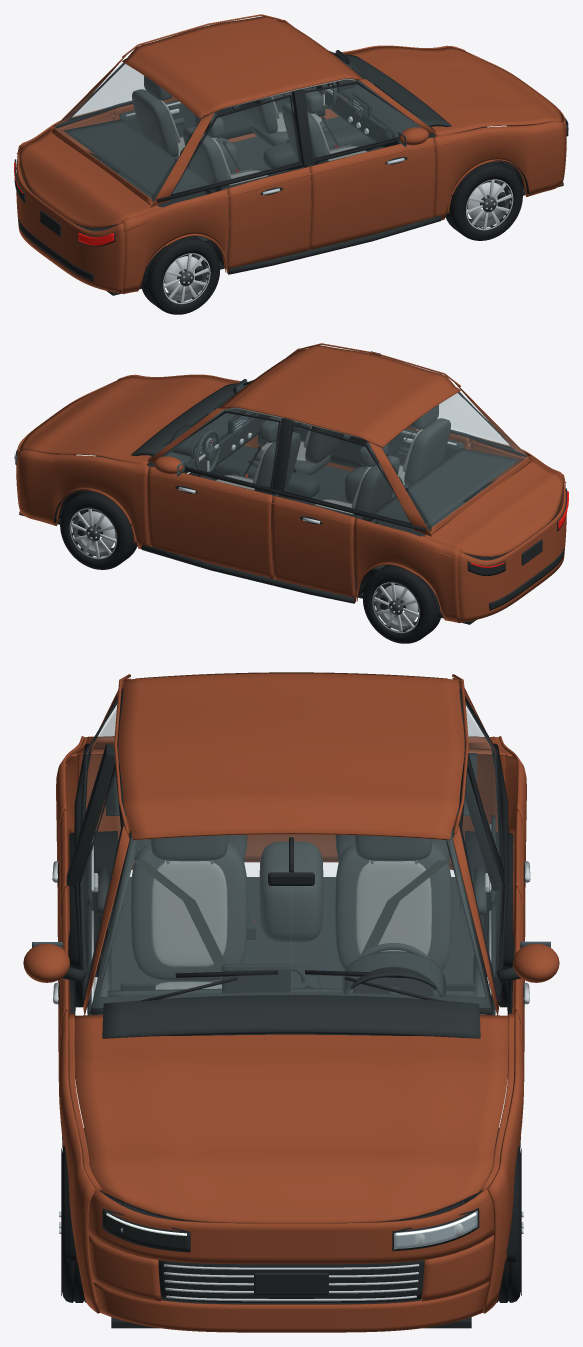
The model's file is brake-family-sedan.glb.
The picture shows the model from 3 angles, top to bottom: view 1: azimuth 30°, elevation 25°; view 2: azimuth 150°, elevation 25°; view 3: azimuth 270°, elevation 25°; orthographic projection. The views are drawn at different scales.
Visible parts, largest first — view 1: Cabin__Laminated_neutral_blue_glass, RightSideDamage__Copper_ceramic_metallic_paint, Cabin__Copper_ceramic_metallic_paint, HoodOuterPressing, Interior__Soft_touch_graphite_cabin, FrontRightDamage__Copper_ceramic_metallic_paint, TrunkCurvedDeck, Body__Copper_ceramic_metallic_paint, RearRightDamage__Copper_ceramic_metallic_paint, Dashboard__Soft_touch_graphite_cabin, Interior__Seat_bolsters_charcoal, Roll.001__Tire_rubber_and_weather_seals (+15 smaller); view 2: Cabin__Laminated_neutral_blue_glass, LeftSideDamage__Copper_ceramic_metallic_paint, Cabin__Copper_ceramic_metallic_paint, HoodOuterPressing, Interior__Soft_touch_graphite_cabin, FrontLeftDamage__Copper_ceramic_metallic_paint, TrunkCurvedDeck, Body__Copper_ceramic_metallic_paint, RearLeftDamage__Copper_ceramic_metallic_paint, Dashboard__Soft_touch_graphite_cabin, Cabin__Tire_rubber_and_weather_seals, Roll.002__Tire_rubber_and_weather_seals (+15 smaller); view 3: HoodOuterPressing, Cabin__Copper_ceramic_metallic_paint, Windshield, Body__Copper_ceramic_metallic_paint, Dashboard__Soft_touch_graphite_cabin, Body__Satin_graphite_exterior_trim, Interior__Soft_touch_graphite_cabin, Cabin__Laminated_neutral_blue_glass, Cabin__Tire_rubber_and_weather_seals, Interior__Seat_bolsters_charcoal, SeatFR__Seat_bolsters_charcoal, SeatFR__Warm_grey_woven_upholstery (+19 smaller).
Boxes of the visible parts, x1,y1,x2,y2 form: Cabin__Laminated_neutral_blue_glass: [54, 62, 421, 197]; RightSideDamage__Copper_ceramic_metallic_paint: [226, 137, 435, 272]; Cabin__Copper_ceramic_metallic_paint: [48, 14, 435, 207]; HoodOuterPressing: [344, 46, 561, 135]; Interior__Soft_touch_graphite_cabin: [63, 97, 435, 242]; FrontRightDamage__Copper_ceramic_metallic_paint: [433, 121, 565, 220]; TrunkCurvedDeck: [19, 128, 159, 227]; Body__Copper_ceramic_metallic_paint: [16, 51, 566, 293]; RearRightDamage__Copper_ceramic_metallic_paint: [121, 188, 229, 293]; Dashboard__Soft_touch_graphite_cabin: [312, 54, 451, 147]; Interior__Seat_bolsters_charcoal: [132, 76, 325, 173]; Roll.001__Tire_rubber_and_weather_seals: [445, 161, 522, 240]; Cabin__Laminated_neutral_blue_glass: [161, 391, 528, 526]; LeftSideDamage__Copper_ceramic_metallic_paint: [147, 466, 356, 601]; Cabin__Copper_ceramic_metallic_paint: [147, 343, 533, 536]; HoodOuterPressing: [21, 375, 238, 464]; Interior__Soft_touch_graphite_cabin: [147, 427, 519, 571]; FrontLeftDamage__Copper_ceramic_metallic_paint: [17, 450, 149, 549]; TrunkCurvedDeck: [423, 457, 563, 556]; Body__Copper_ceramic_metallic_paint: [16, 380, 566, 622]; RearLeftDamage__Copper_ceramic_metallic_paint: [353, 517, 461, 622]; Dashboard__Soft_touch_graphite_cabin: [131, 383, 270, 476]; Cabin__Tire_rubber_and_weather_seals: [155, 391, 528, 531]; Roll.002__Tire_rubber_and_weather_seals: [363, 565, 441, 643]; HoodOuterPressing: [74, 1014, 508, 1223]; Cabin__Copper_ceramic_metallic_paint: [23, 672, 559, 1015]; Windshield: [92, 834, 490, 1007]; Body__Copper_ceramic_metallic_paint: [59, 739, 523, 1332]; Dashboard__Soft_touch_graphite_cabin: [102, 951, 480, 1038]; Body__Satin_graphite_exterior_trim: [89, 997, 493, 1328]; Interior__Soft_touch_graphite_cabin: [87, 753, 495, 1015]; Cabin__Laminated_neutral_blue_glass: [81, 702, 501, 986]; Cabin__Tire_rubber_and_weather_seals: [74, 688, 508, 1004]; Interior__Seat_bolsters_charcoal: [96, 834, 486, 1014]; SeatFR__Seat_bolsters_charcoal: [130, 835, 247, 985]; SeatFR__Warm_grey_woven_upholstery: [151, 861, 227, 989].
Size of the model in its own units: 4.17 by 1.55 by 1.99.
